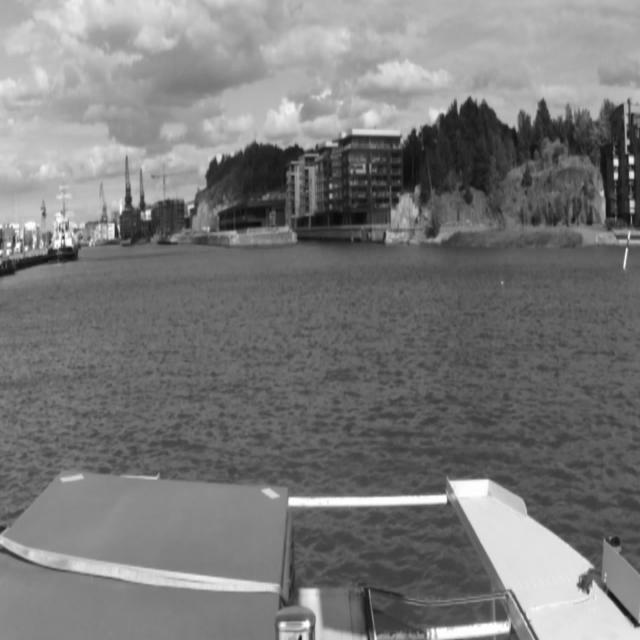buoy: (622, 229, 632, 271)
ship: (50, 207, 80, 261)
